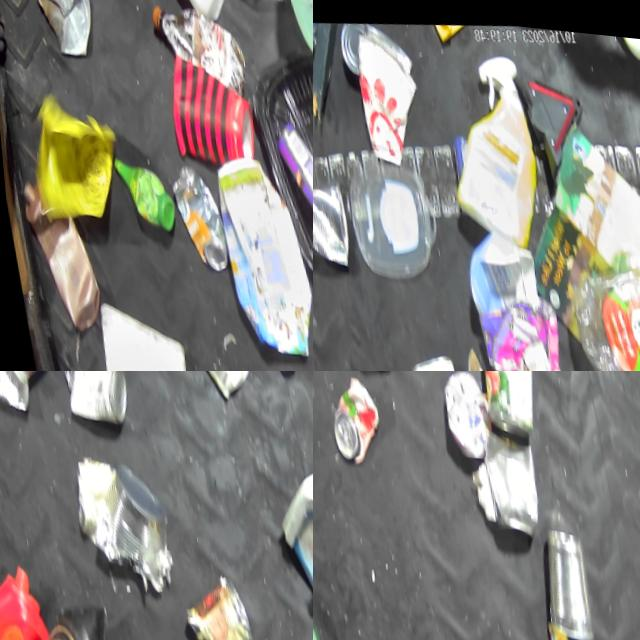can: (80, 451, 174, 593), (523, 512, 592, 640), (473, 414, 541, 537), (162, 156, 225, 272), (317, 371, 384, 468), (172, 563, 253, 640), (460, 371, 546, 433), (53, 371, 130, 423), (313, 173, 351, 272), (334, 17, 376, 77), (399, 344, 467, 371), (528, 613, 576, 640), (0, 371, 29, 414)
non_white_jug: (428, 40, 546, 253), (12, 172, 100, 337), (0, 554, 60, 640)
plastic_bottle: (557, 240, 640, 371)
